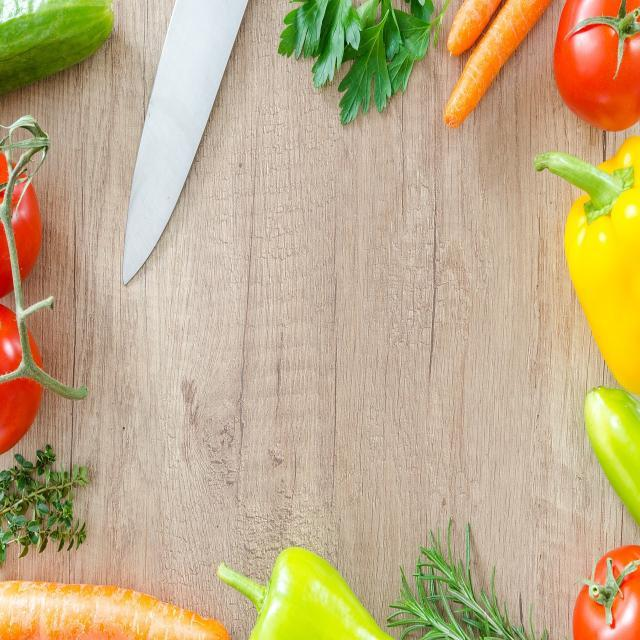Knife: (122, 0, 247, 283)
